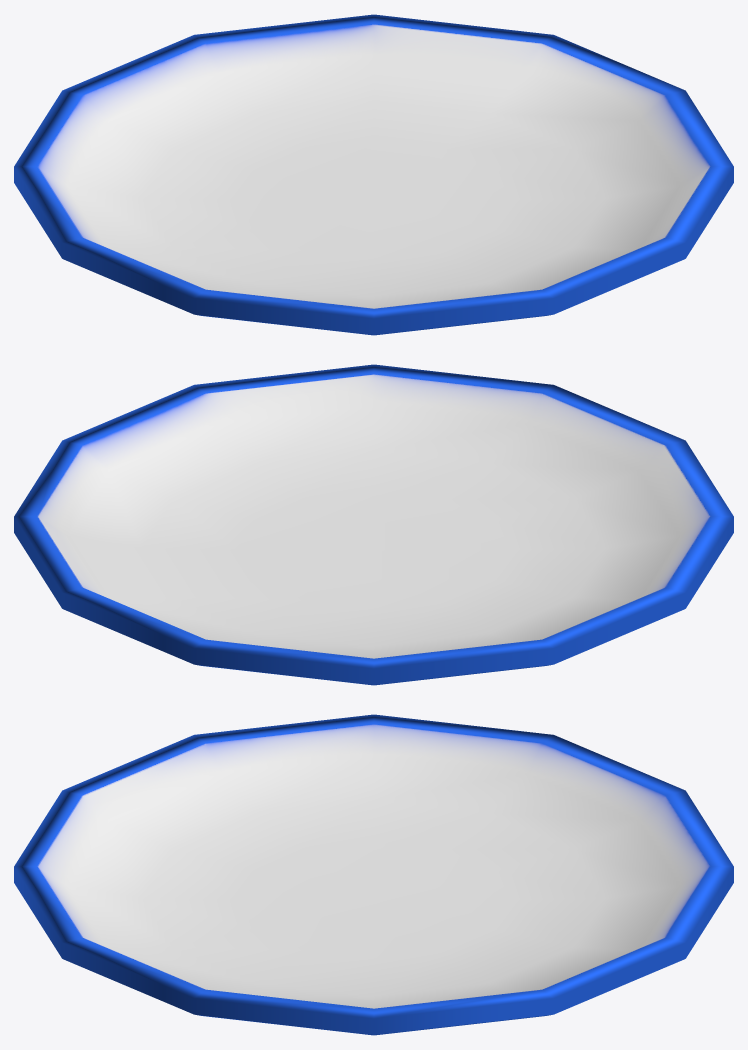
File: PR_plateBlue_01.fbx
3 views of the same model, one above another, from view 1: azimuth 30°, elevation 25°; view 2: azimuth 150°, elevation 25°; view 3: azimuth 270°, elevation 25° (orthographic).
Parts seen in each view (by area): view 1: PR_plateBlue_01; view 2: PR_plateBlue_01; view 3: PR_plateBlue_01.
Part boxes in pixels (<box>): PR_plateBlue_01: <box>14,14,733,335</box>; PR_plateBlue_01: <box>14,364,733,685</box>; PR_plateBlue_01: <box>14,714,733,1035</box>.
Bounding box in the file's own units: 1220 × 125 × 1220.
Materials: 1 (1 with a texture image).
